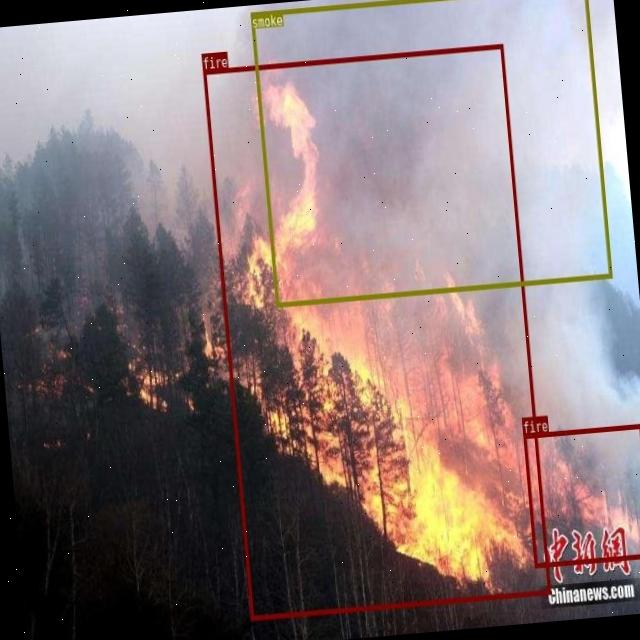fire: (202, 43, 550, 619), (523, 422, 640, 567)
smoke: (250, 0, 611, 305)
